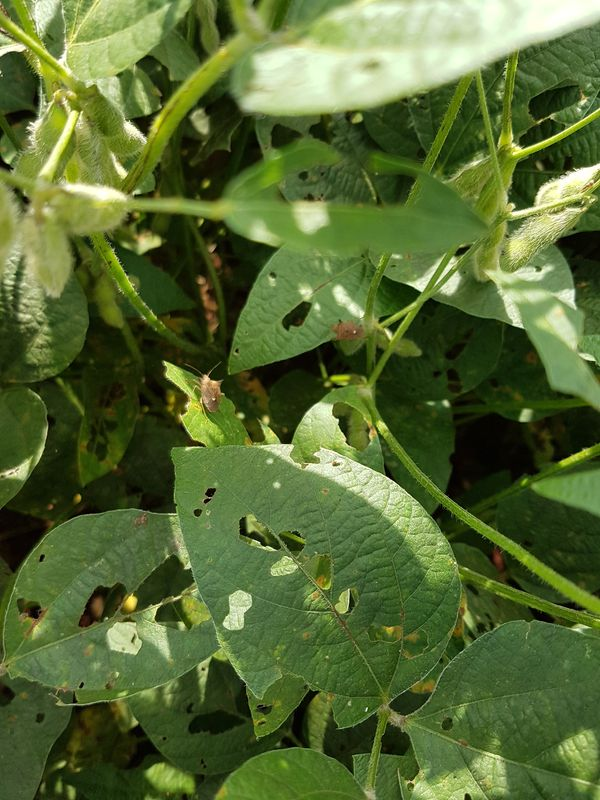Euschistus_heros_adulto: (179, 358, 234, 420), (325, 312, 371, 354)
